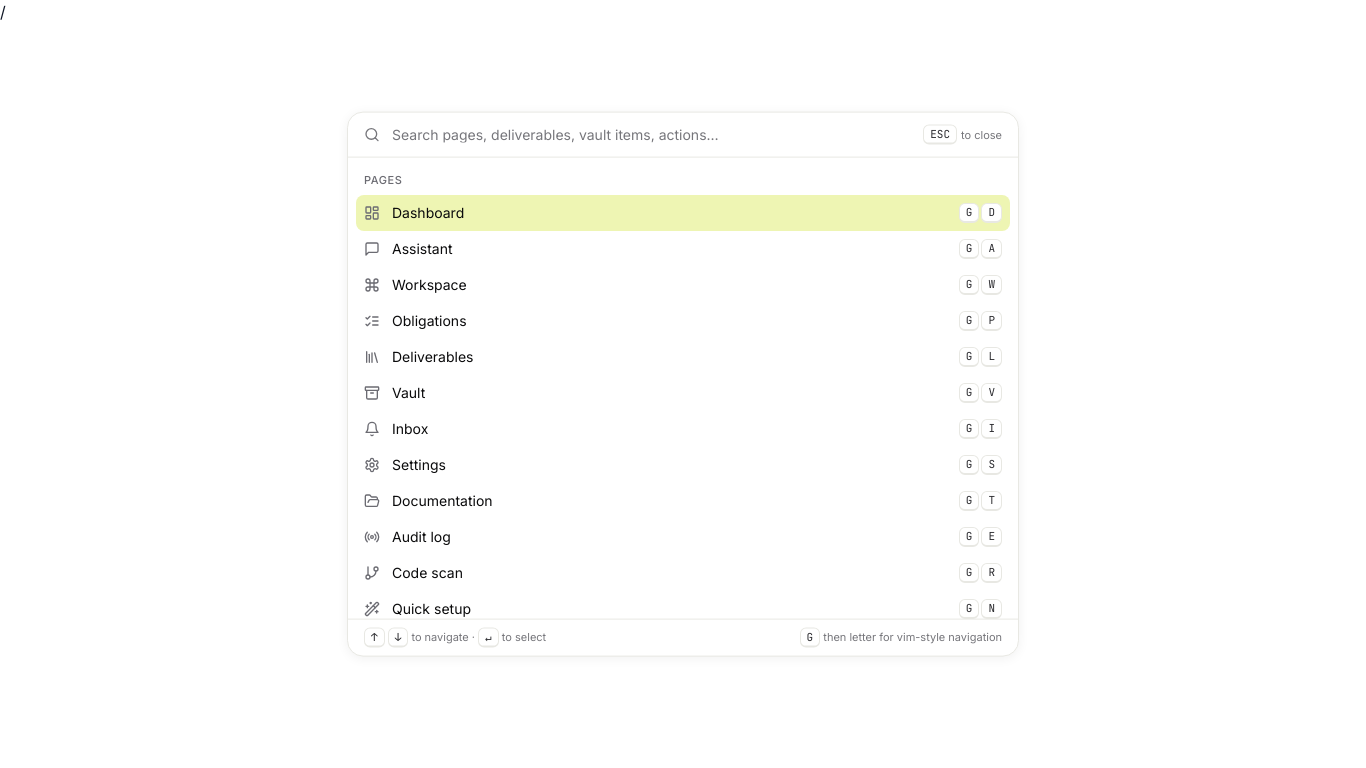
it: CommandPalette › navigates when a page item is selected
Click the text "Vault". click: [409, 392]
box: [392,383,425,400]
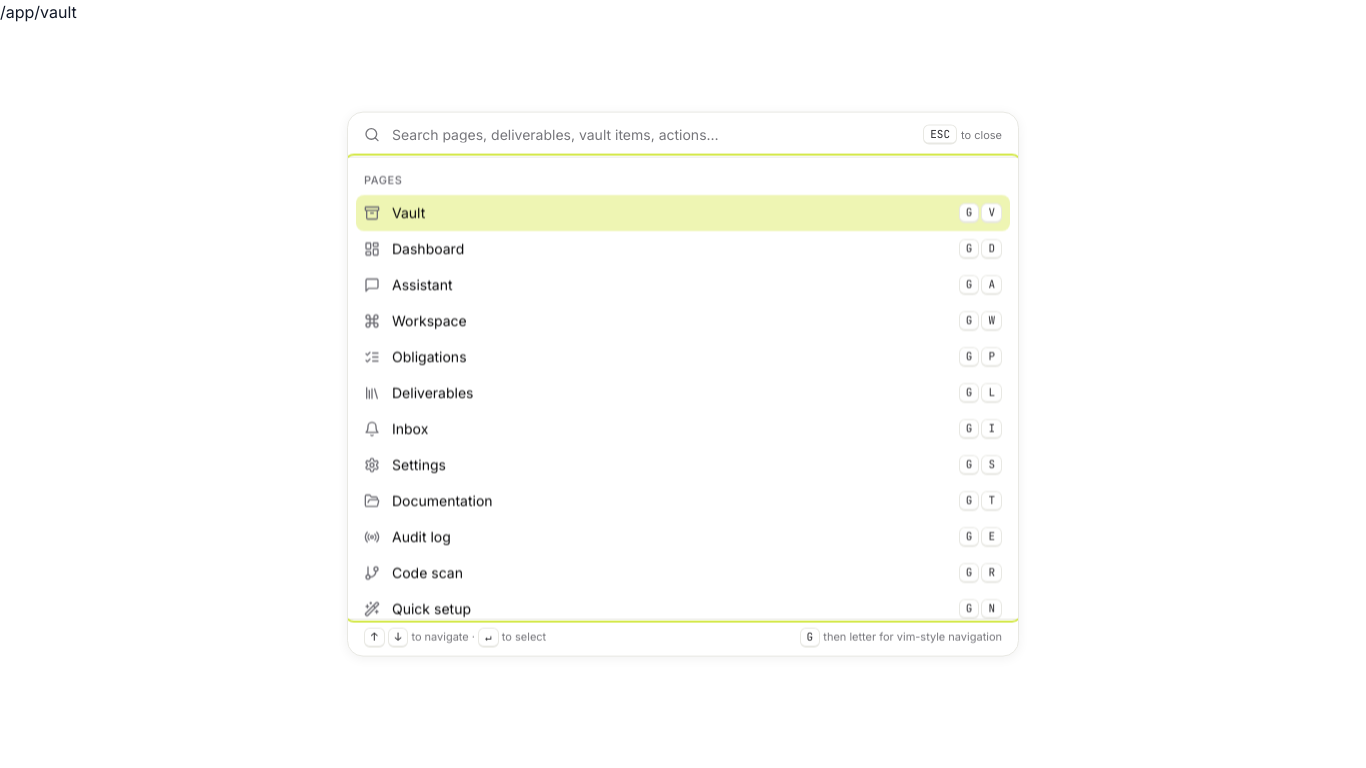
Expected: the text with test id "location" reads "/app/vault", [0,2,77,22]
